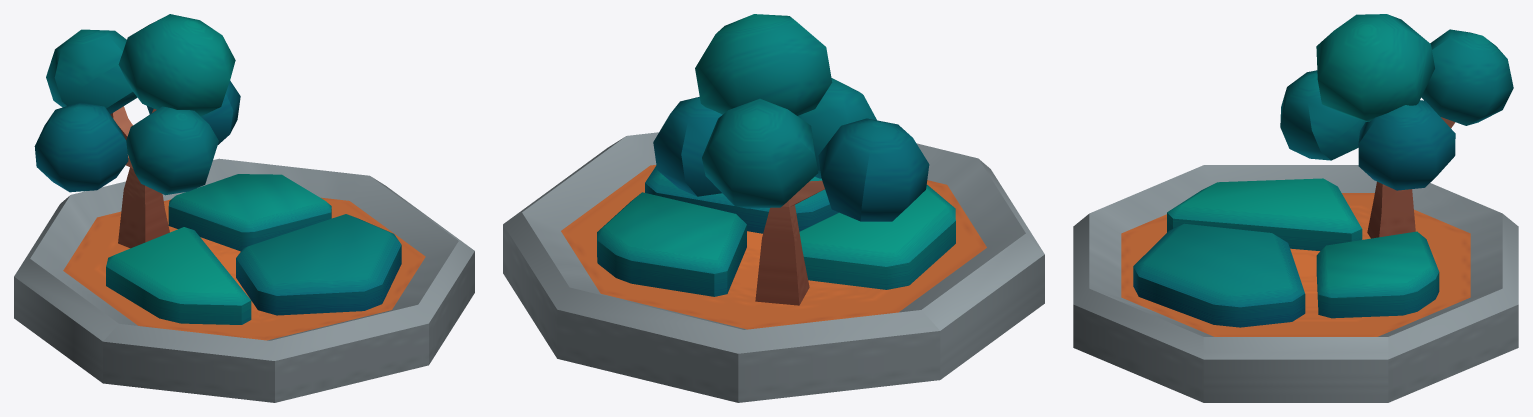
File: space-farm-small.glb
The picture shows the model from 3 angles, left to right: view 1: azimuth 30°, elevation 25°; view 2: azimuth 150°, elevation 25°; view 3: azimuth 270°, elevation 25°; orthographic projection. The views are drawn at different scales.
Visible parts, largest first — view 1: space_farm_small; view 2: space_farm_small; view 3: space_farm_small.
Boxes of the visible parts, x1,y1,x2,y2 form: space_farm_small: [14, 14, 474, 402]; space_farm_small: [503, 14, 1044, 402]; space_farm_small: [1073, 14, 1518, 402].
Size of the model in its own units: 1.4 by 0.9423 by 1.4.
1 material, 1 textured.
